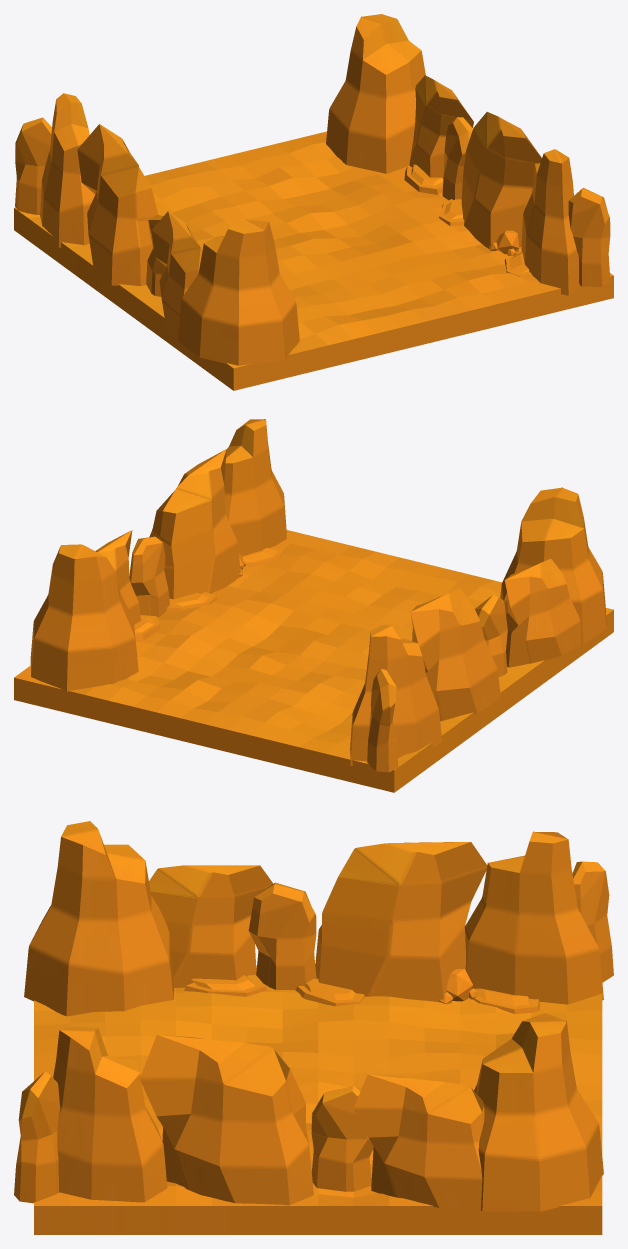
The model's file is Floor.fbx.
The picture shows the model from 3 angles, top to bottom: view 1: azimuth 30°, elevation 25°; view 2: azimuth 150°, elevation 25°; view 3: azimuth 270°, elevation 25°; orthographic projection. The views are drawn at different scales.
Parts seen in each view (by area): view 1: Floor, Mountain_1, Mountain_2; view 2: Floor, Mountain_1, Mountain_2; view 3: Mountain_2, Mountain_1, Floor.
Part boxes in pixels (x1,y1,x2,y2): Floor: [14, 131, 613, 390]; Mountain_1: [326, 14, 610, 295]; Mountain_2: [15, 93, 299, 365]; Floor: [14, 530, 613, 792]; Mountain_1: [30, 419, 286, 691]; Mountain_2: [350, 487, 606, 772]; Mountain_2: [24, 821, 613, 1016]; Mountain_1: [14, 1013, 603, 1211]; Floor: [34, 965, 602, 1234].
Size of the model in its own units: 13.15 by 4.53 by 13.16.
